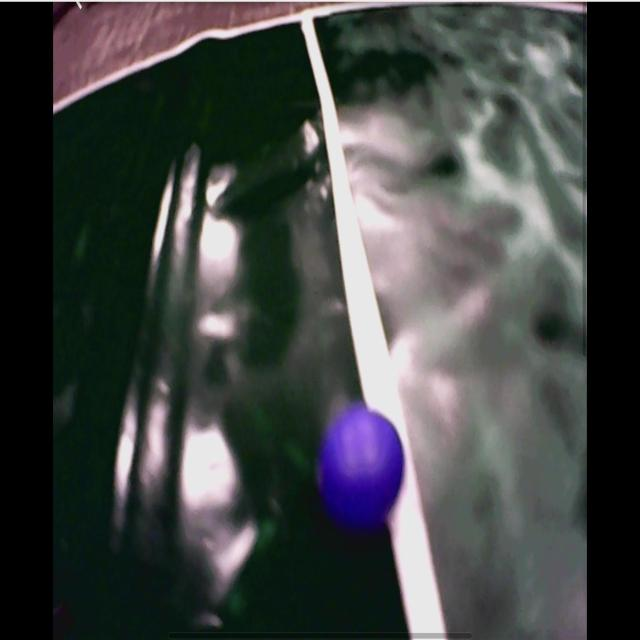ball: (319, 410, 406, 525)
